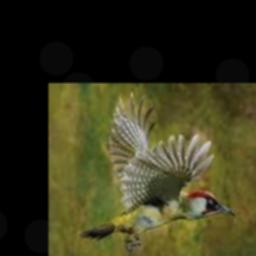Woodpecker: (78, 91, 236, 251)
